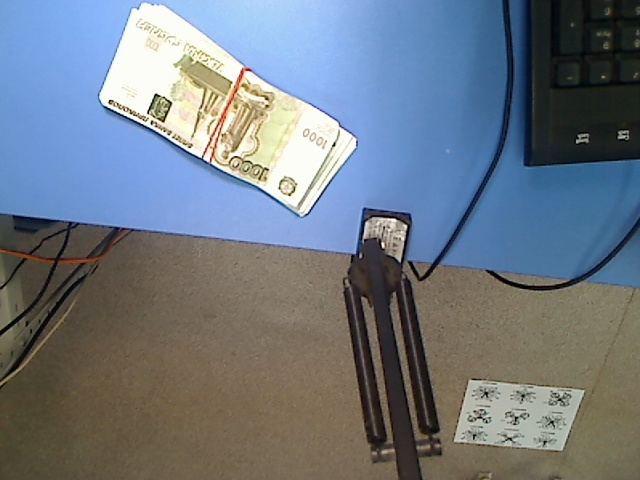banknotes: (97, 2, 361, 218)
